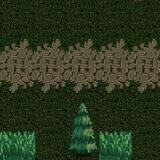Obstacle: (65, 131, 99, 160)
Slow: (0, 130, 35, 160), (99, 132, 132, 160)
